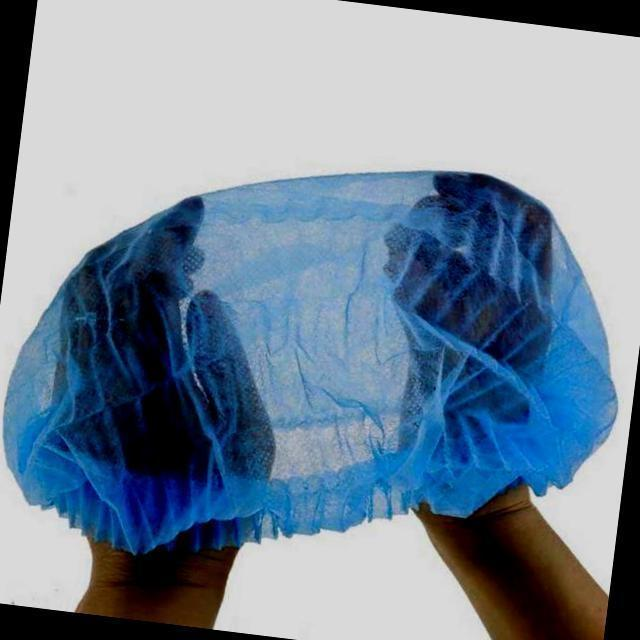gloves: (0, 128, 640, 556)
